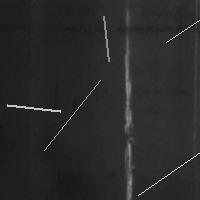scratches: (39, 75, 105, 155), (133, 145, 200, 200), (119, 6, 137, 200), (161, 0, 200, 47), (2, 100, 65, 116), (99, 11, 114, 66)
